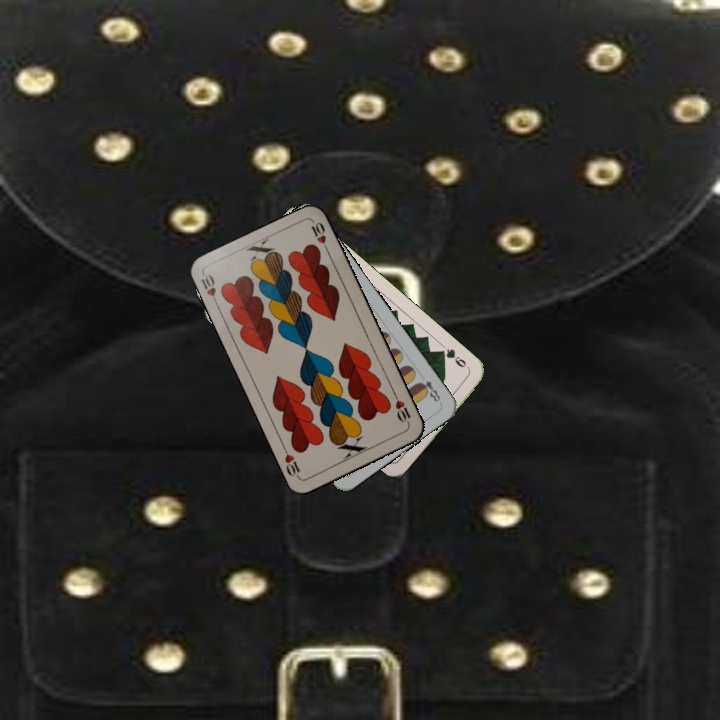E8: (414, 376, 443, 404)
G9: (435, 344, 473, 373)
H10: (197, 270, 221, 309), (390, 389, 413, 428)
